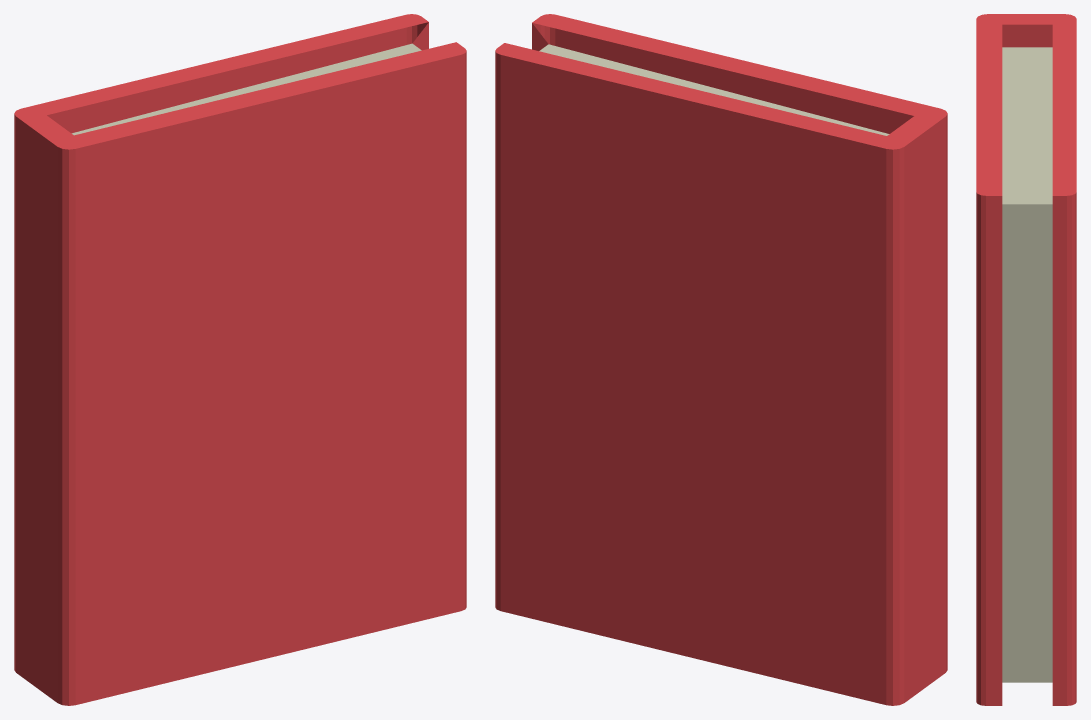
File: book.fbx
3 views of the same model, side by side, from view 1: azimuth 30°, elevation 25°; view 2: azimuth 150°, elevation 25°; view 3: azimuth 270°, elevation 25° (orthographic). The views are drawn at different scales.
Parts seen in each view (by area): view 1: Book; view 2: Book; view 3: Book.
Part boxes in pixels (<box>): Book: <box>14,14,466,705</box>; Book: <box>495,14,947,705</box>; Book: <box>976,14,1076,705</box>.
Bounding box in the file's own units: 856 × 1119 × 200.
